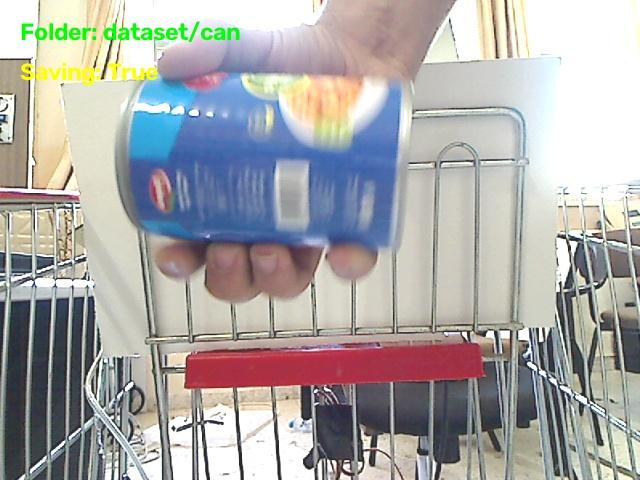can: (116, 72, 411, 247)
